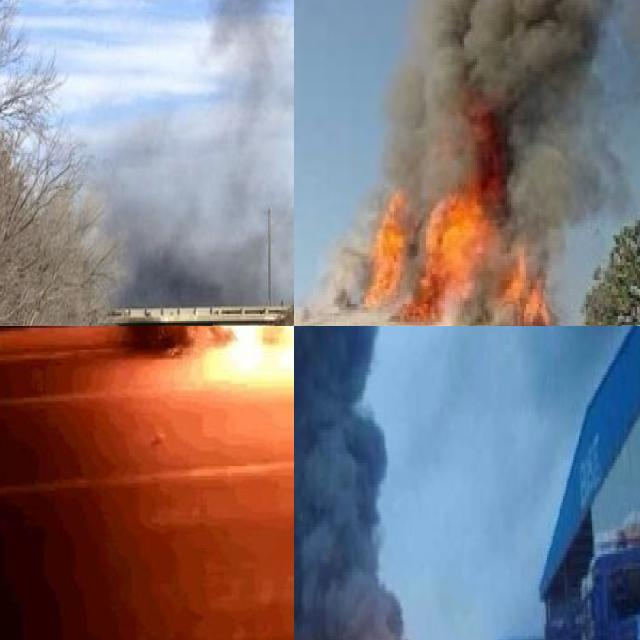fire: (364, 181, 564, 326)
smoke: (91, 0, 294, 303), (387, 0, 607, 199), (294, 326, 403, 640), (294, 211, 364, 326)
